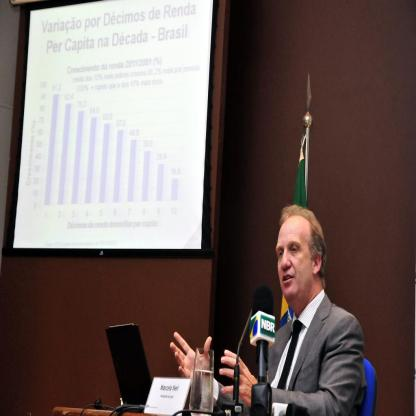board: (106, 320, 152, 407)
